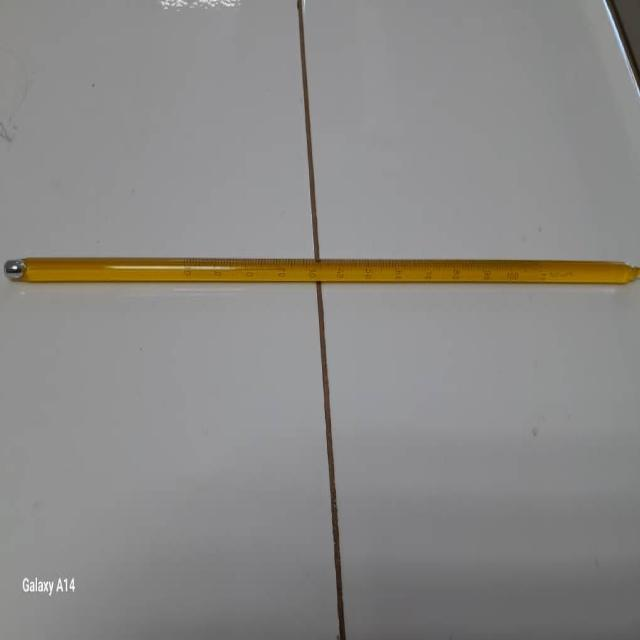Thermometer: (0, 248, 640, 293)
